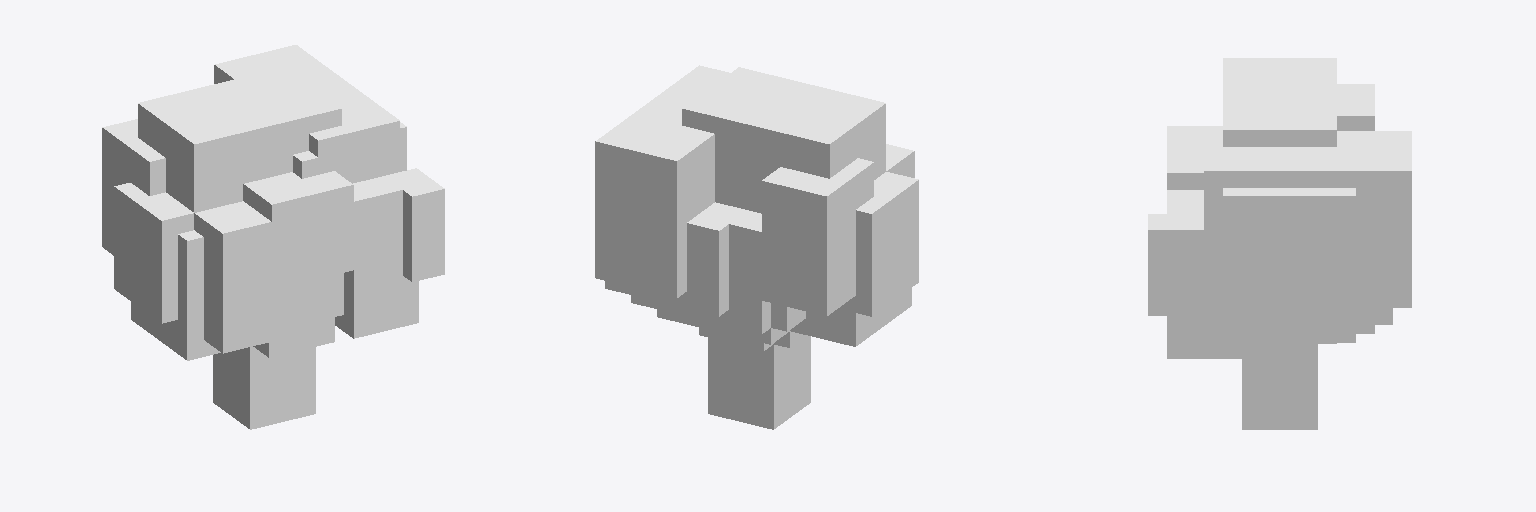
Rendered from george_bush.obj.
The picture shows the model from 3 angles: view 1: azimuth 30°, elevation 25°; view 2: azimuth 150°, elevation 25°; view 3: azimuth 270°, elevation 25°; orthographic projection.
Visible parts, largest first — view 1: object 1; view 2: object 1; view 3: object 1.
Boxes of the visible parts, box(x1,y1,x2,y2) form: object 1: box(102, 45, 444, 429); object 1: box(595, 65, 918, 429); object 1: box(1148, 58, 1411, 429).
Size of the model in its own units: 1.5 by 1.8 by 1.4.